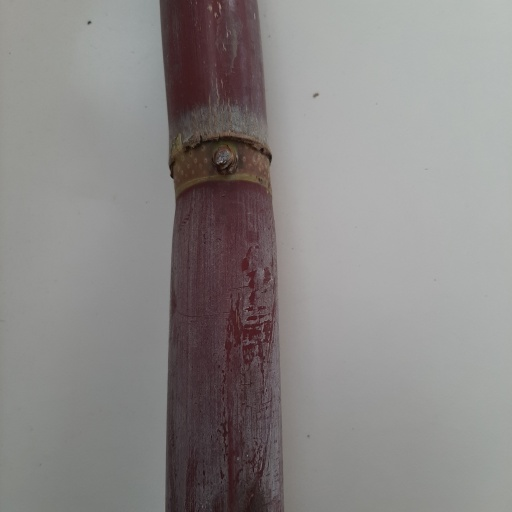Bud: (208, 142, 239, 177)
